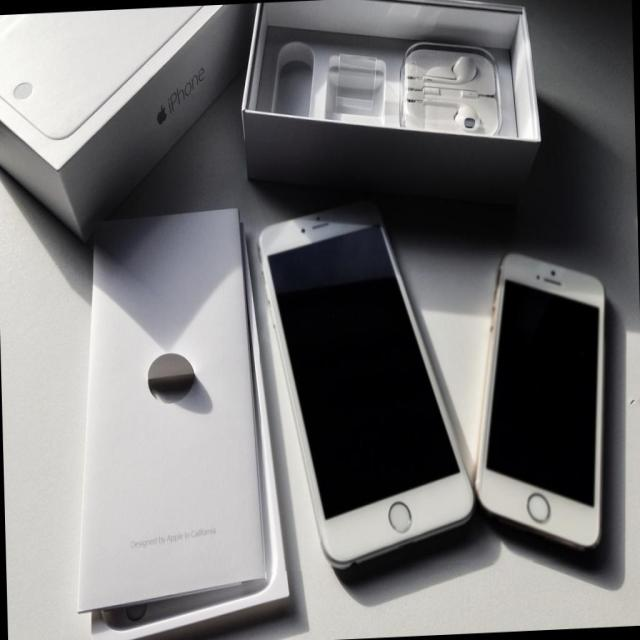handphone: (270, 197, 466, 575), (470, 252, 609, 545)
